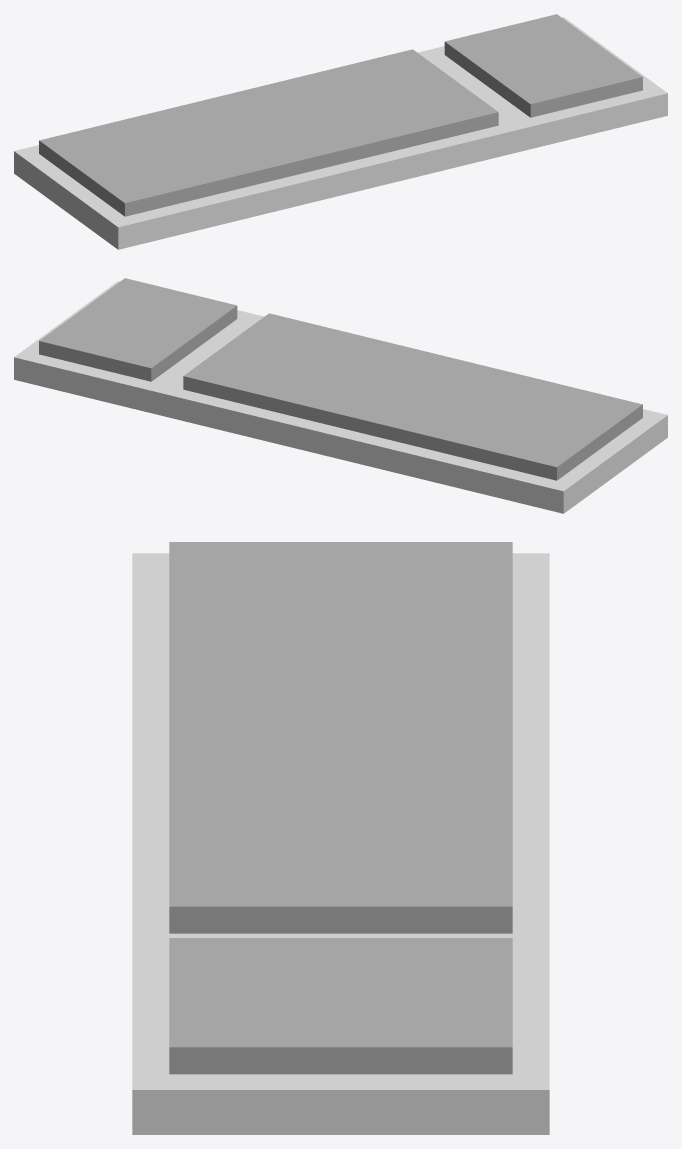
The model's file is Itr_Obj_Keyboard_01.FBX.
3 views of the same model, one above another, from view 1: azimuth 30°, elevation 25°; view 2: azimuth 150°, elevation 25°; view 3: azimuth 270°, elevation 25° (orthographic). The views are drawn at different scales.
Visible parts, largest first — view 1: Itr_Obj_Keyboard_01; view 2: Itr_Obj_Keyboard_01; view 3: Itr_Obj_Keyboard_01.
Boxes of the visible parts, x1,y1,x2,y2 form: Itr_Obj_Keyboard_01: (14,14,667,249); Itr_Obj_Keyboard_01: (14,278,667,513); Itr_Obj_Keyboard_01: (132,542,549,1134).
Bounding box in the file's own units: 29.34 × 1.83 × 9.64.
